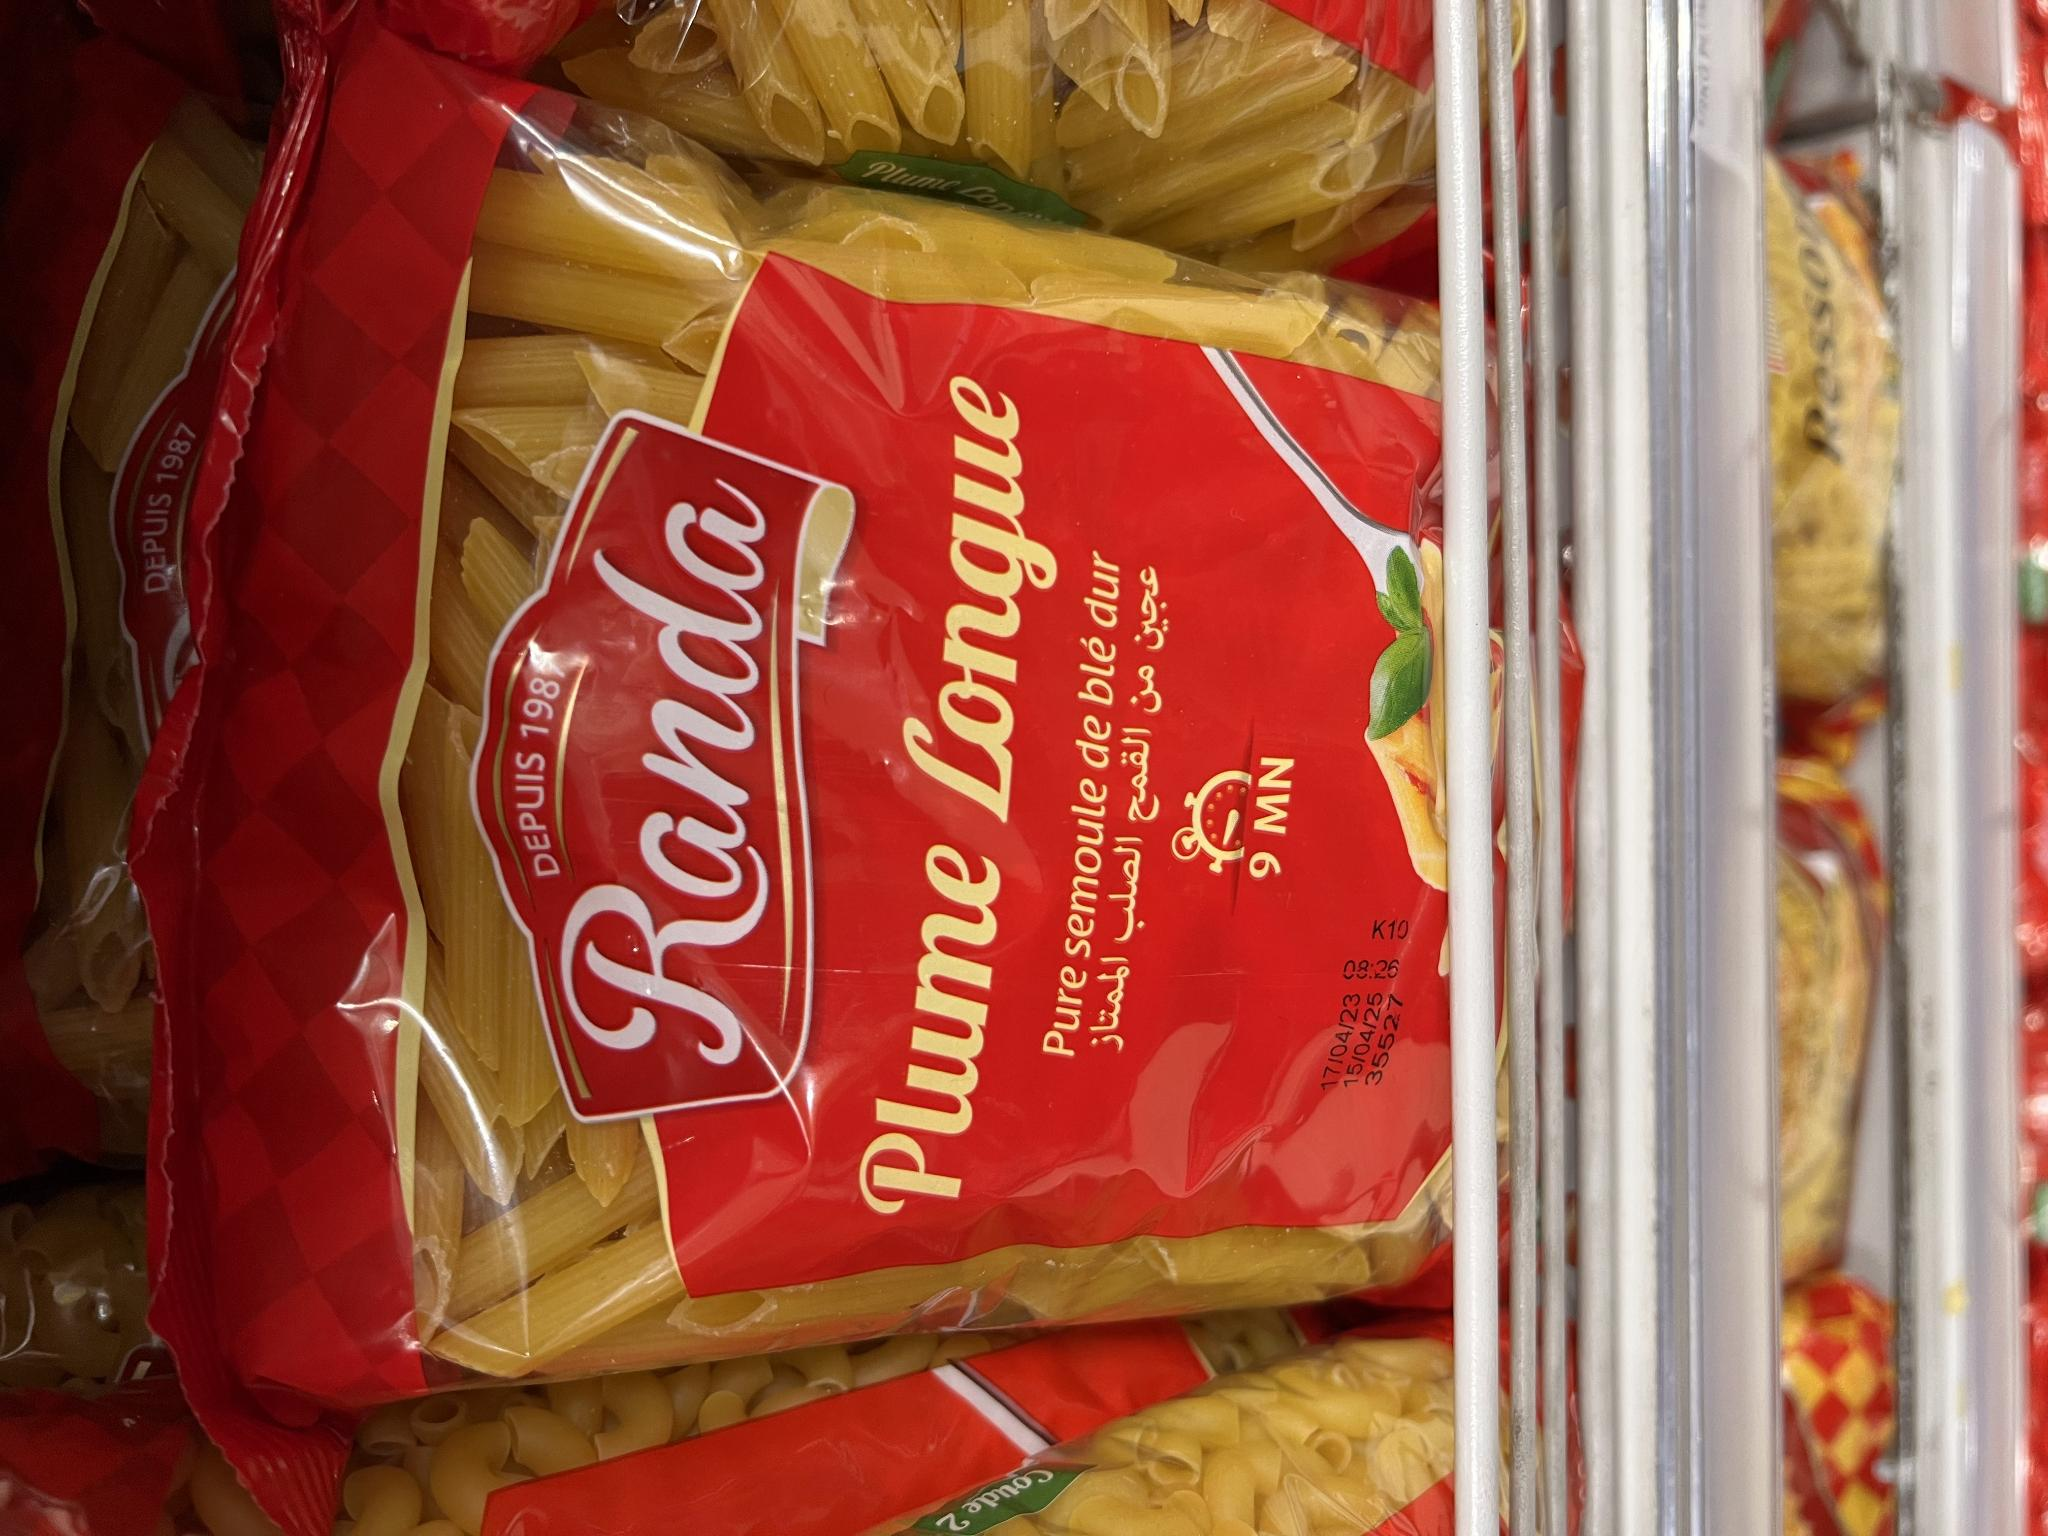plume: (223, 53, 1453, 1396), (521, 0, 1443, 211)
